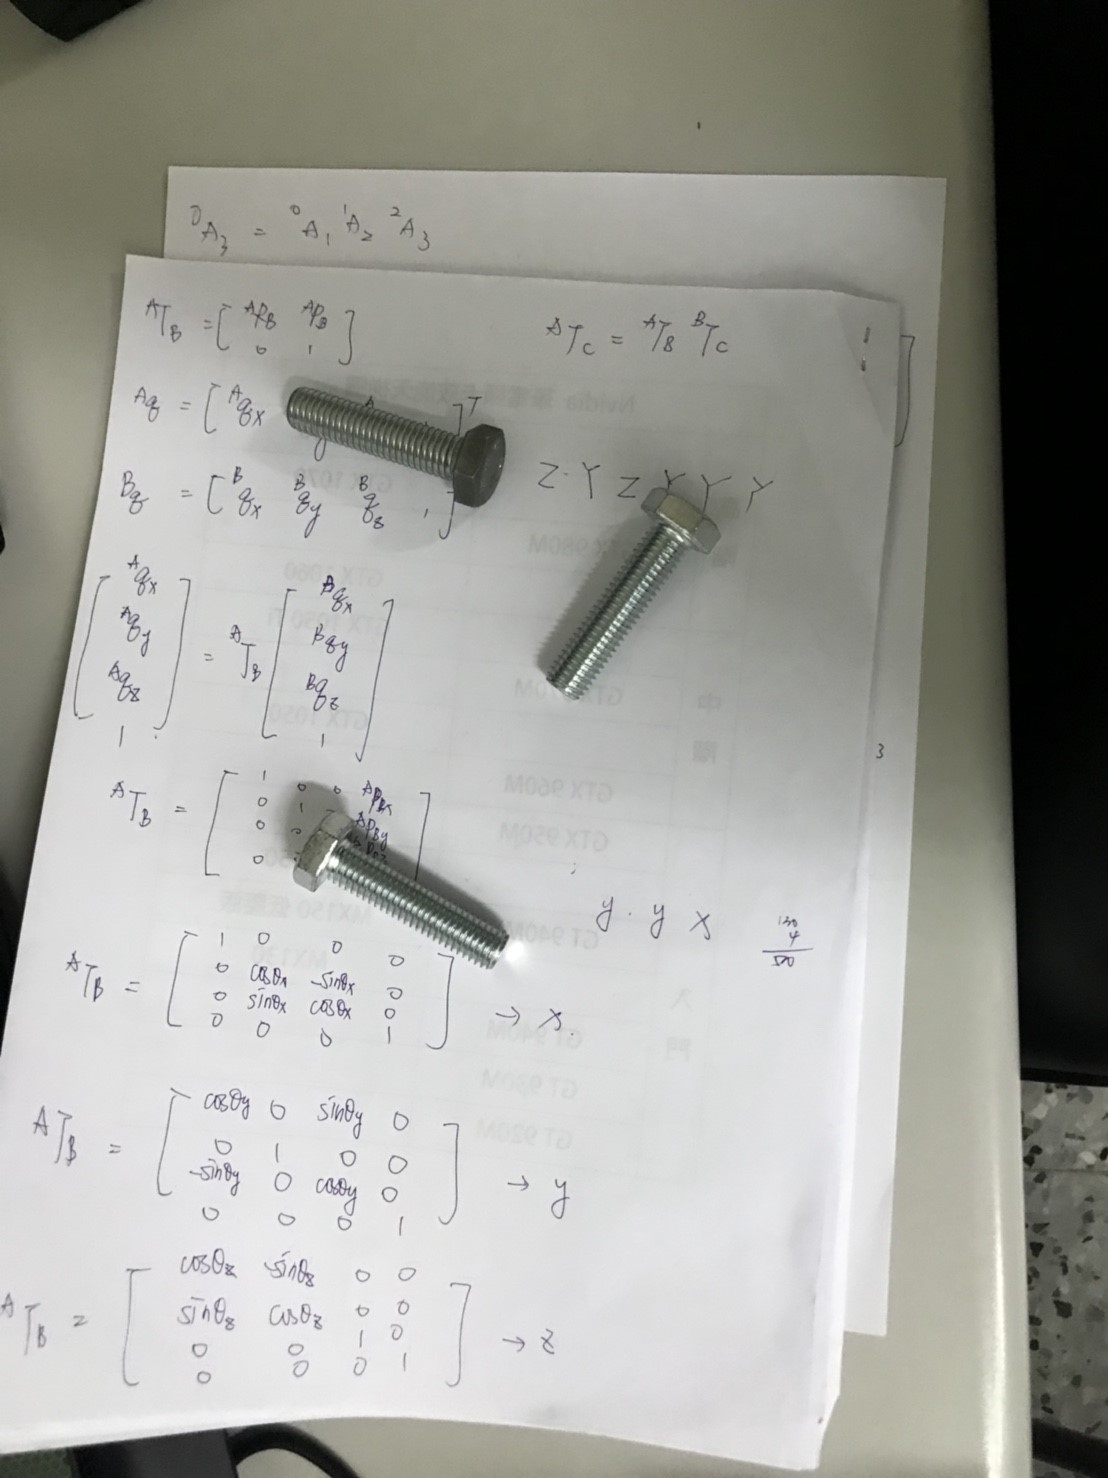screw: (274, 346, 519, 523), (537, 483, 724, 704), (283, 813, 537, 969)
